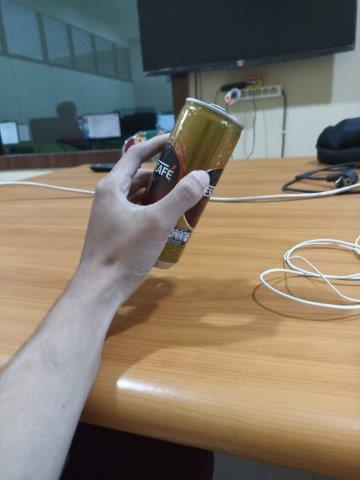kaleng: (140, 97, 246, 269)
